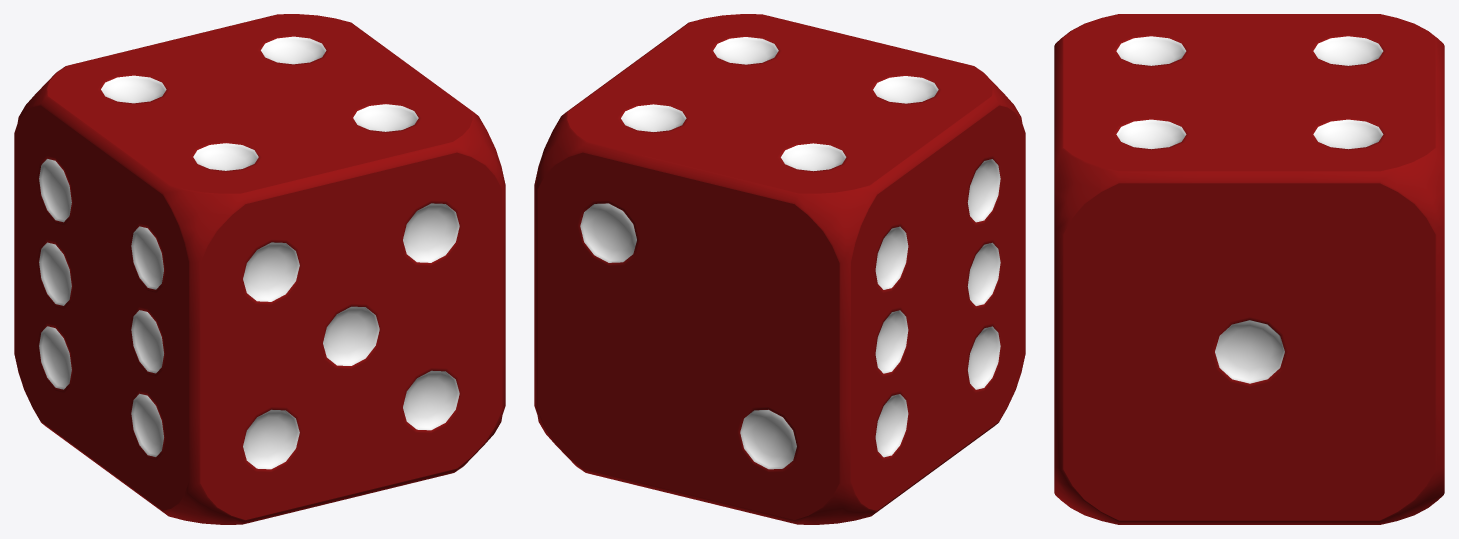
File: dice.FBX
3 views of the same model, side by side, from view 1: azimuth 30°, elevation 25°; view 2: azimuth 150°, elevation 25°; view 3: azimuth 270°, elevation 25° (orthographic). The views are drawn at different scales.
Visible parts, largest first — view 1: Box002; view 2: Box002; view 3: Box002.
Part boxes in pixels (x1,y1,x2,y2): Box002: (14, 14, 505, 524); Box002: (534, 14, 1025, 524); Box002: (1054, 14, 1444, 524).
Size of the model in its own units: 39.37 by 39.37 by 39.37.
